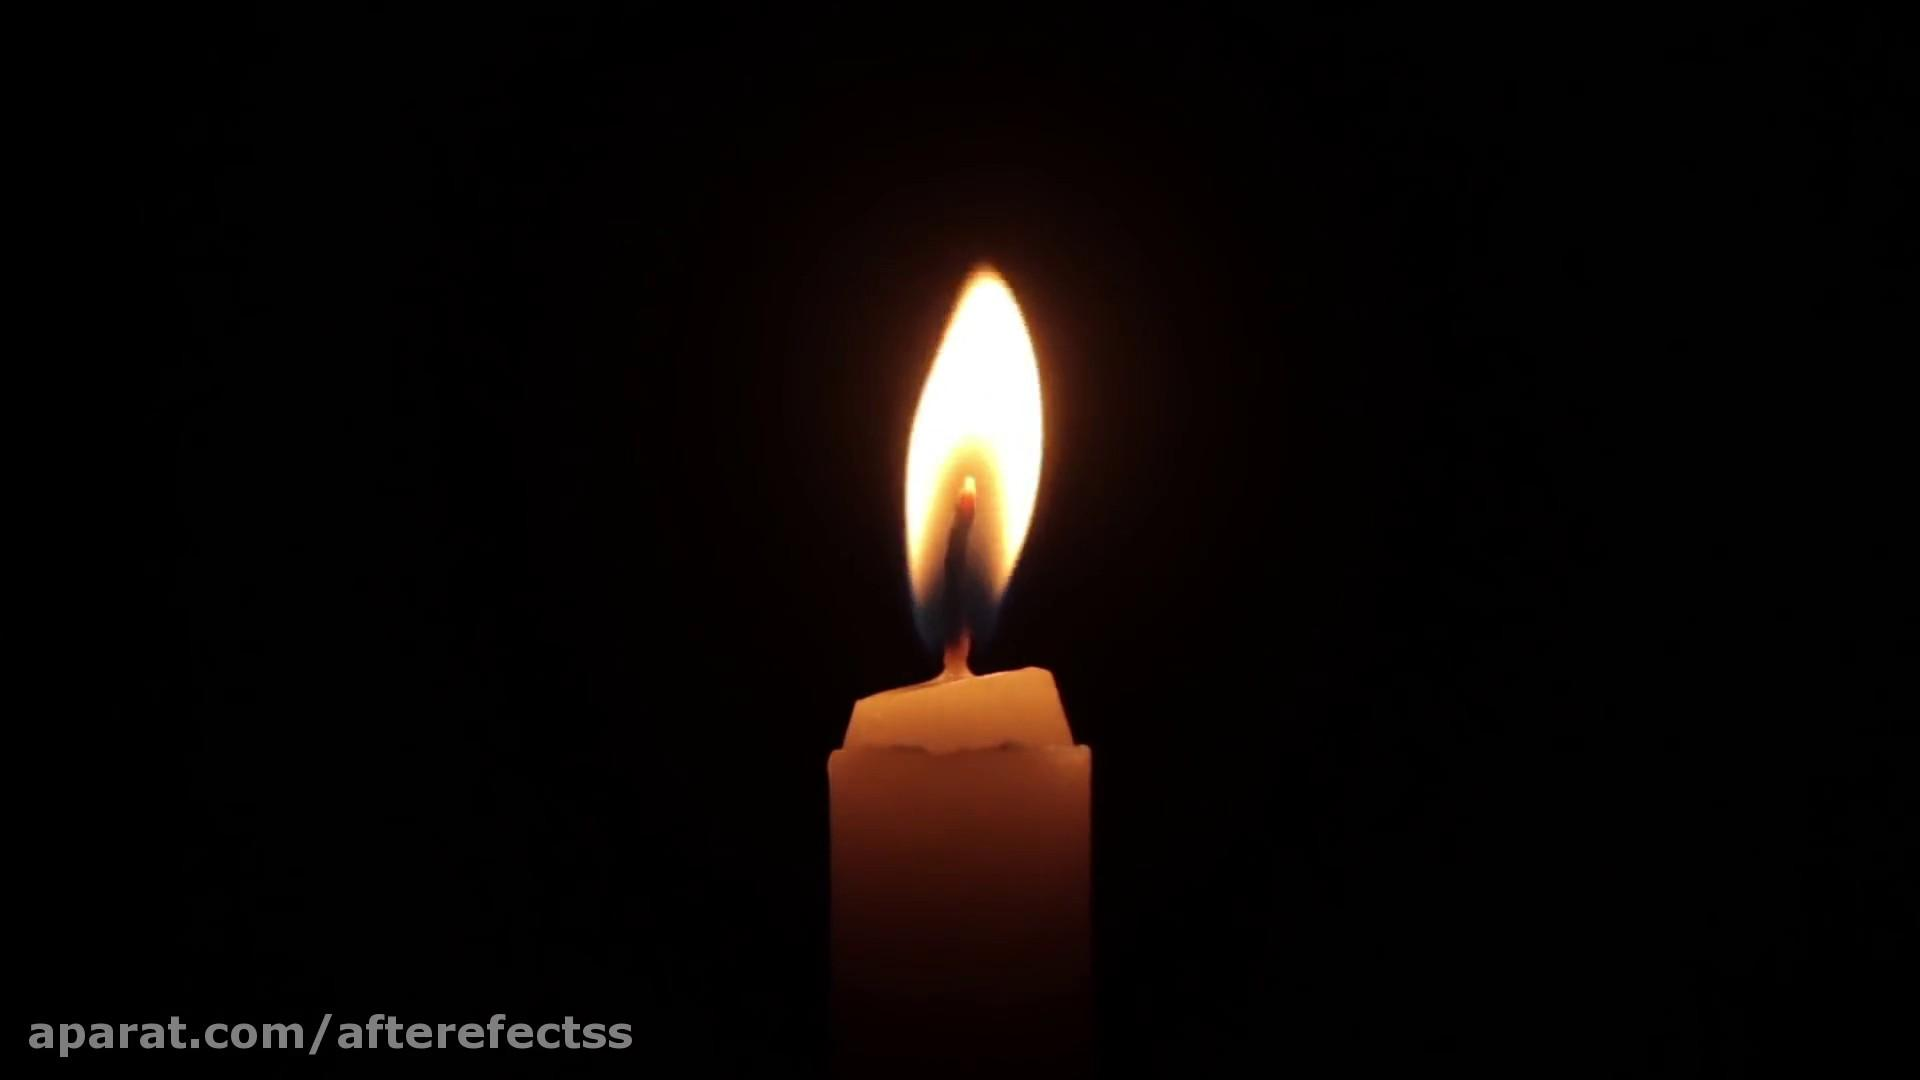fire: (895, 265, 1059, 624)
